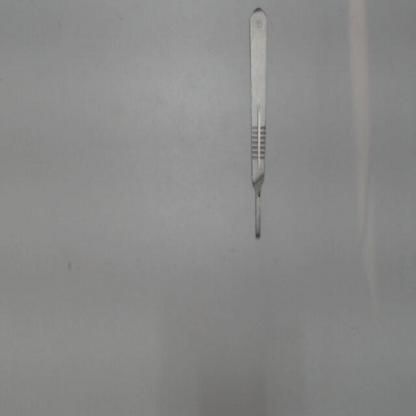No.4 BP Handle: (244, 4, 276, 247)
